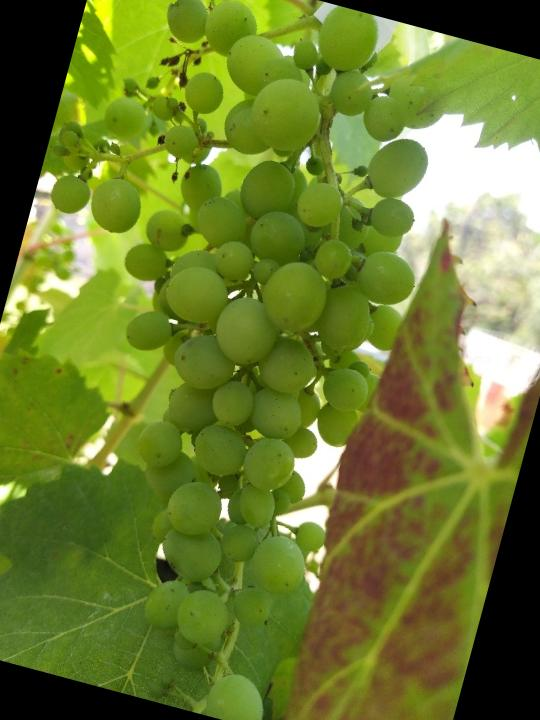grape: (0, 0, 477, 720)
